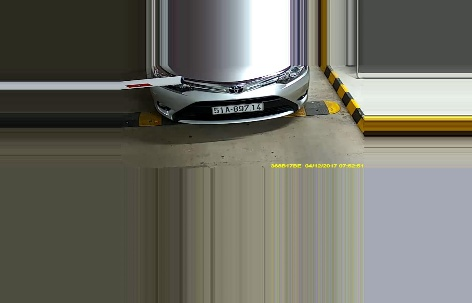plate: (207, 99, 264, 114)
